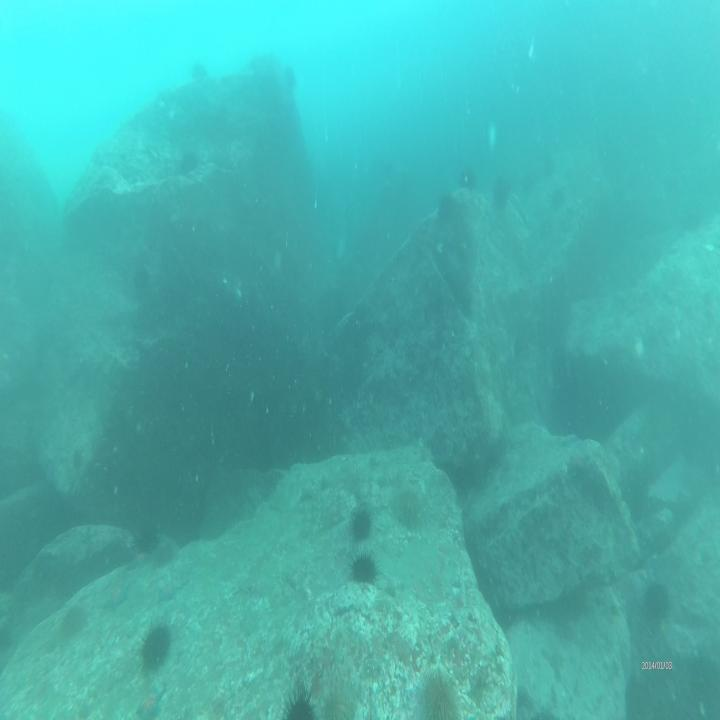echinus: (413, 660, 462, 720), (639, 569, 675, 632), (136, 618, 178, 671), (278, 677, 321, 720), (346, 542, 380, 591), (396, 482, 424, 533), (348, 496, 374, 542), (172, 144, 202, 181)
starfish: (133, 684, 166, 720), (102, 578, 129, 611), (155, 576, 181, 602)
